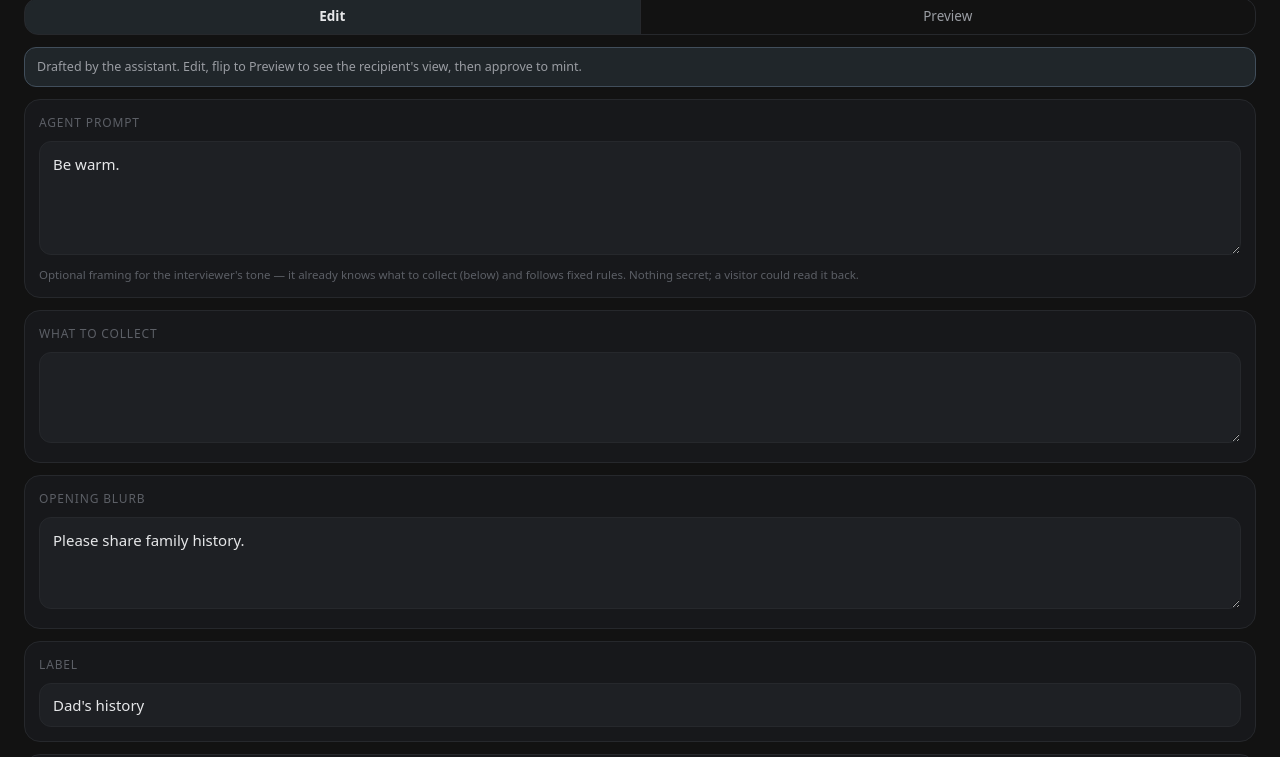
IntakeLinkProposalEditor › blocks minting until the collection brief is non-empty
Type "phone number" into the text box labelled "What to collect" at (640,398), box [39,352,1241,443]
(page scrolled)
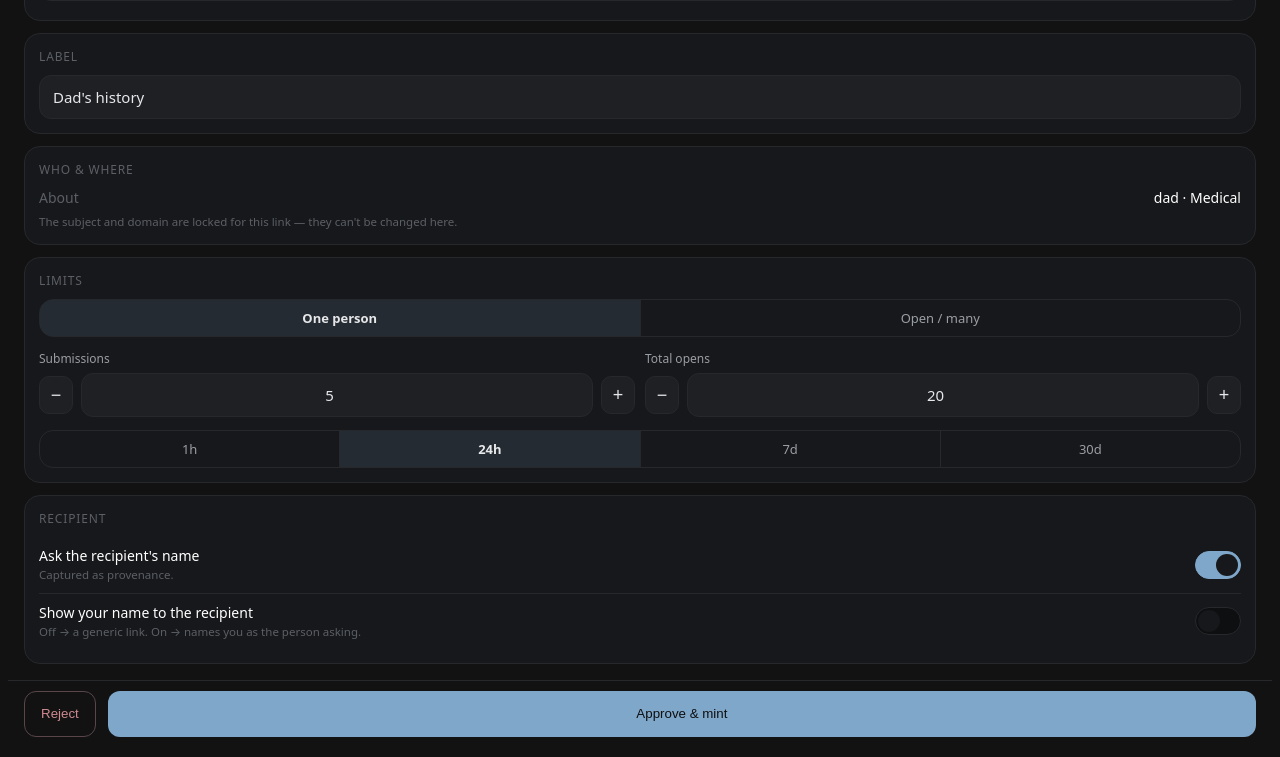
Expected: the button "Approve & mint" is enabled, [108,691,1256,737]
